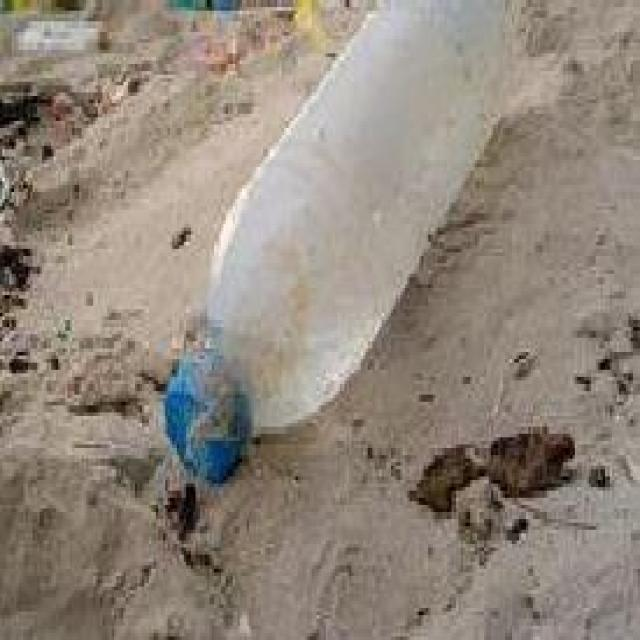-Recyclables - plastic bottle-: (162, 1, 516, 485)
